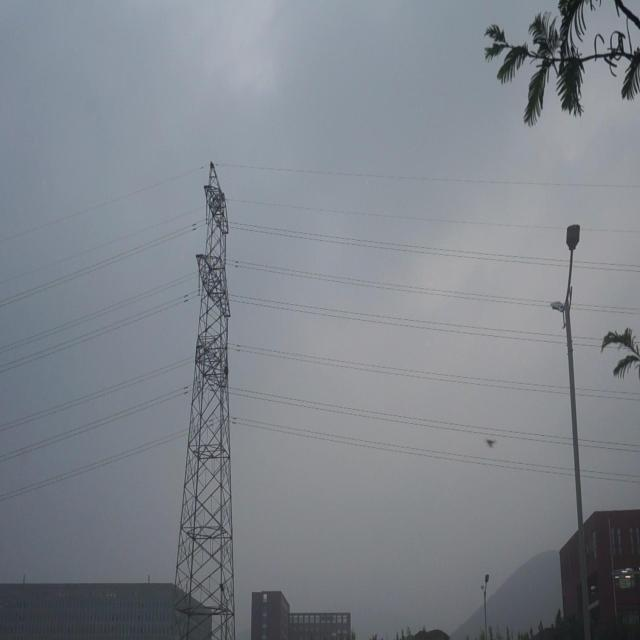drone: (482, 434, 500, 453)
